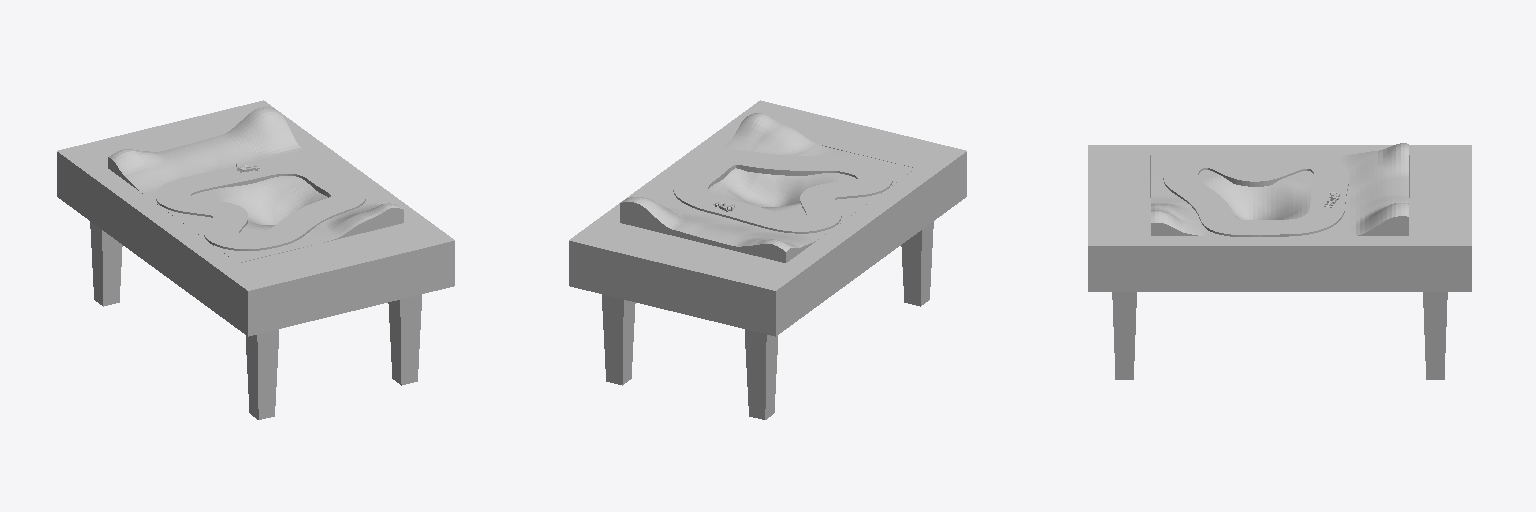
The model's file is NewestTisch6.obj.
3 renders of one model, left to right at view 1: azimuth 30°, elevation 25°; view 2: azimuth 150°, elevation 25°; view 3: azimuth 270°, elevation 25°, orthographic.
Parts seen in each view (by area): view 1: Tischplatte_wood_table_001, Landschaft_aerial_grass_rock, off, Bein1_wood_table_001, Bein4_wood_table_001.003, Bein3_wood_table_001.002; view 2: Tischplatte_wood_table_001, Landschaft_aerial_grass_rock, off, Bein2_wood_table_001.001, Bein3_wood_table_001.002, Bein4_wood_table_001.003; view 3: Tischplatte_wood_table_001, Landschaft_aerial_grass_rock, off, Bein1_wood_table_001, Bein2_wood_table_001.001.
Boxes of the visible parts, <box> form: Tischplatte_wood_table_001: <box>57,100,454,336</box>; Landschaft_aerial_grass_rock: <box>108,107,403,262</box>; off: <box>156,159,365,250</box>; Bein1_wood_table_001: <box>388,294,421,385</box>; Bein4_wood_table_001.003: <box>246,329,278,419</box>; Bein3_wood_table_001.002: <box>90,221,122,306</box>; Tischplatte_wood_table_001: <box>569,100,966,336</box>; Landschaft_aerial_grass_rock: <box>620,113,915,262</box>; off: <box>673,150,892,233</box>; Bein2_wood_table_001.001: <box>602,294,635,385</box>; Bein3_wood_table_001.002: <box>745,329,777,419</box>; Bein4_wood_table_001.003: <box>901,221,933,306</box>; Tischplatte_wood_table_001: <box>1088,145,1471,291</box>; Landschaft_aerial_grass_rock: <box>1151,143,1408,235</box>; off: <box>1163,153,1348,236</box>; Bein1_wood_table_001: <box>1112,292,1136,379</box>; Bein2_wood_table_001.001: <box>1423,292,1447,379</box>.
Bounding box in the file's own units: 5 × 3.91 × 8.